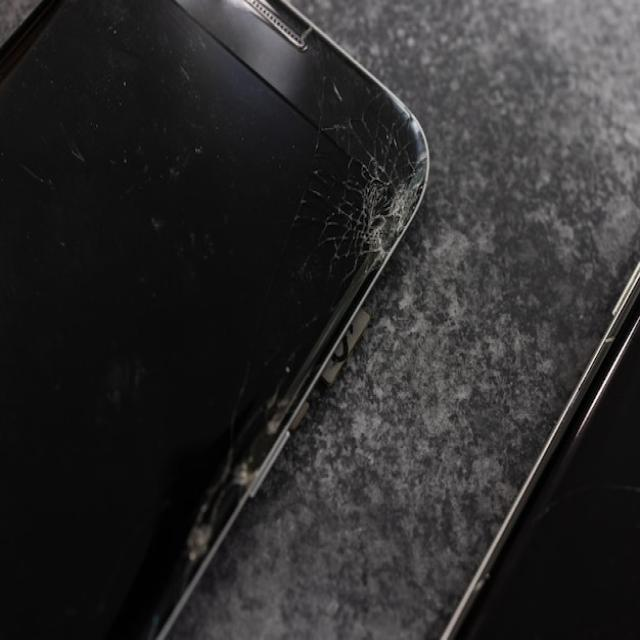Crack: (119, 357, 312, 574), (278, 84, 439, 256)
